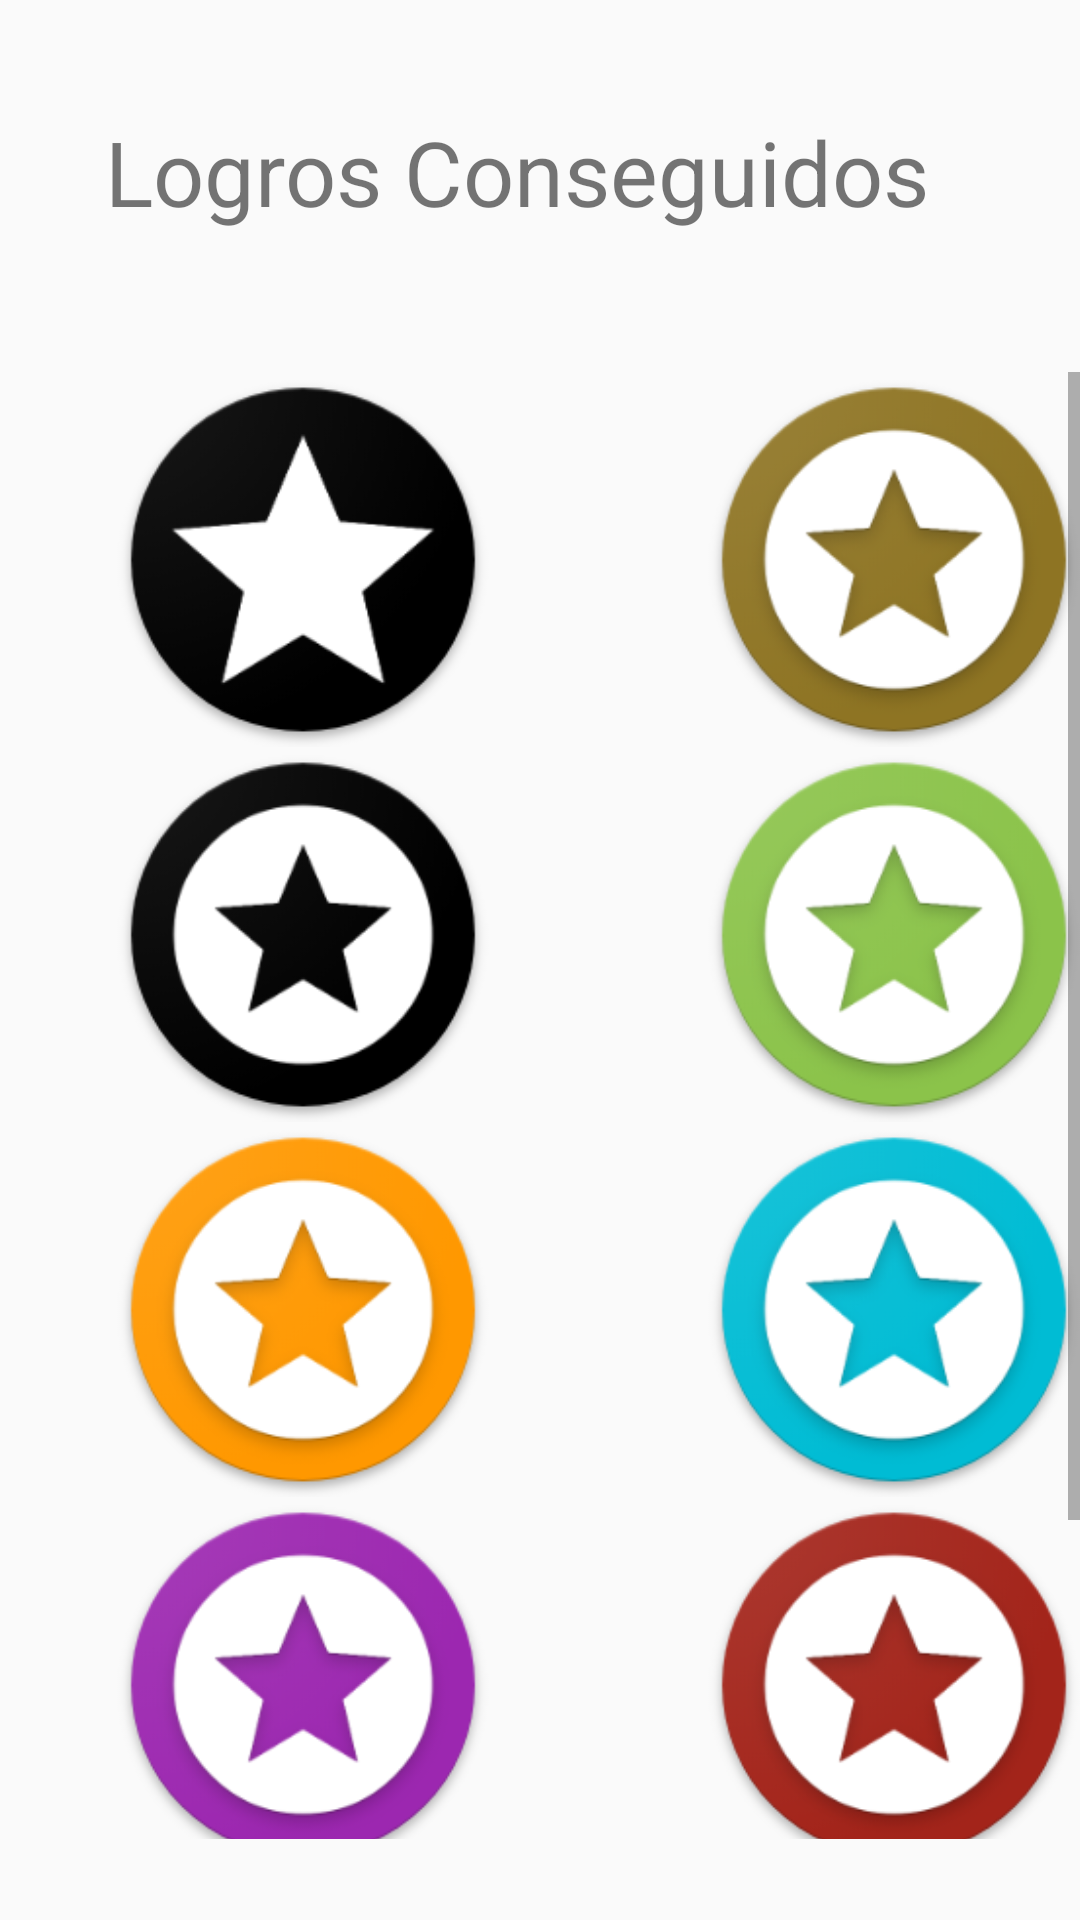

Where icons sit on this 1080 x 1920 app screen, as (x1, y1, x2, y2):
whitestar blackback: (129, 387, 477, 739)
